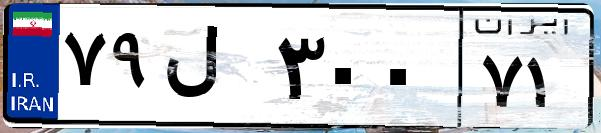0: (385, 28, 445, 110), (330, 28, 385, 110)
1: (525, 38, 570, 115)
3: (270, 28, 330, 110)
7: (57, 26, 110, 100), (475, 38, 525, 113)
9: (110, 28, 158, 98)
ل: (158, 20, 270, 120)
